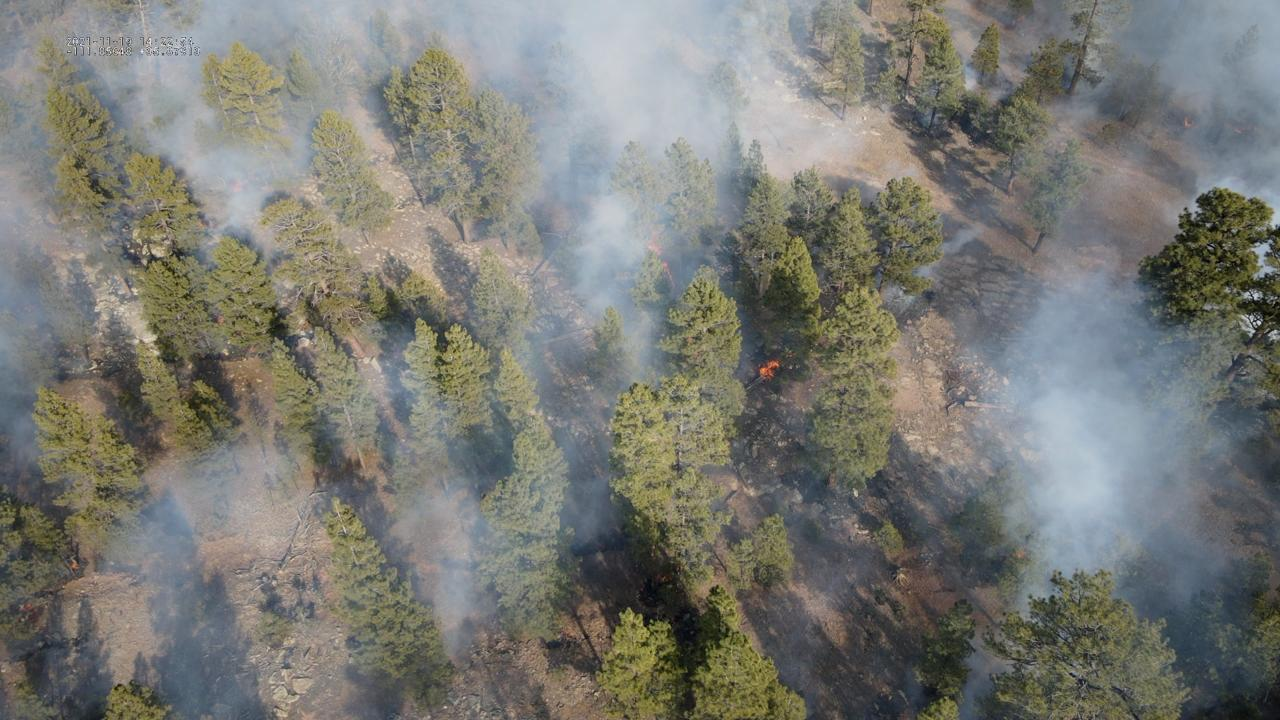fire: (756, 357, 781, 378), (644, 231, 664, 254), (661, 261, 676, 290), (227, 176, 243, 191), (70, 560, 81, 569), (216, 315, 225, 324)
smoke: (0, 0, 1280, 720)
